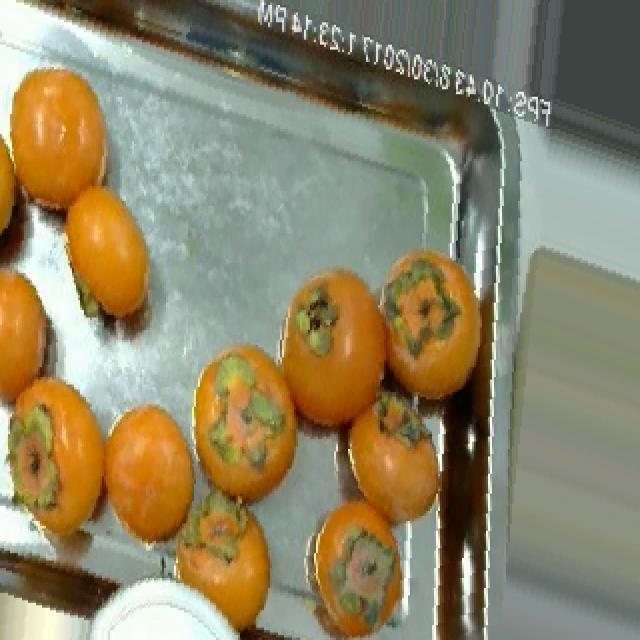Fruit: (44, 159, 174, 362), (2, 45, 132, 238), (156, 481, 292, 640), (86, 384, 202, 570)
